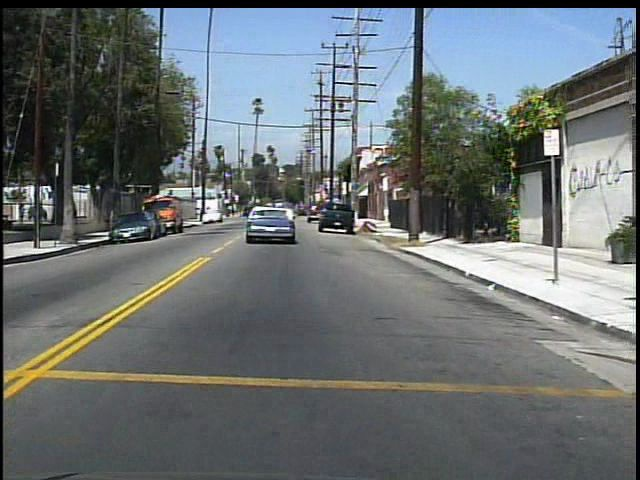person: (69, 198, 83, 228), (16, 200, 32, 226)
